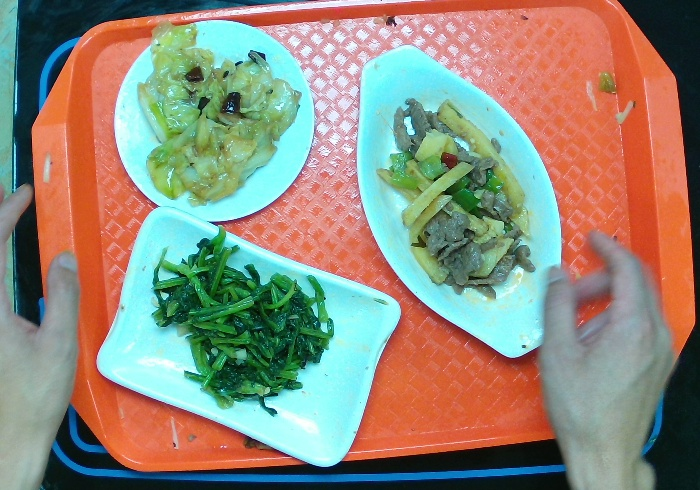RJxy-Si_Fang_Ao_Bian_Wan: (94, 205, 403, 469)
RJxy-Xiao_Yuan_Die: (110, 19, 318, 222)
RJxy-Yu_Pan: (354, 44, 562, 361)
